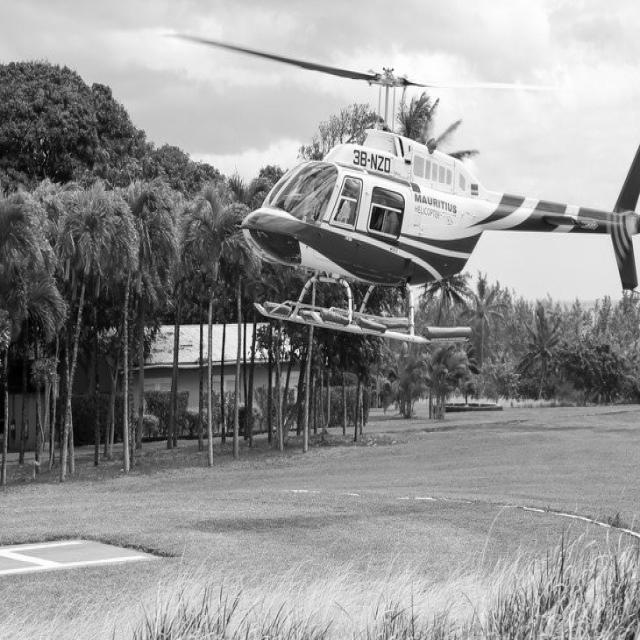helicopter: (143, 42, 640, 358)
